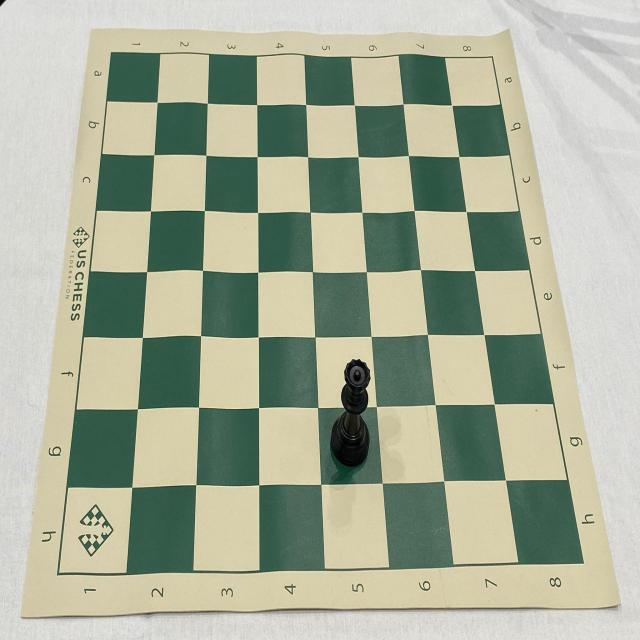black-queen: (330, 358, 372, 468)
